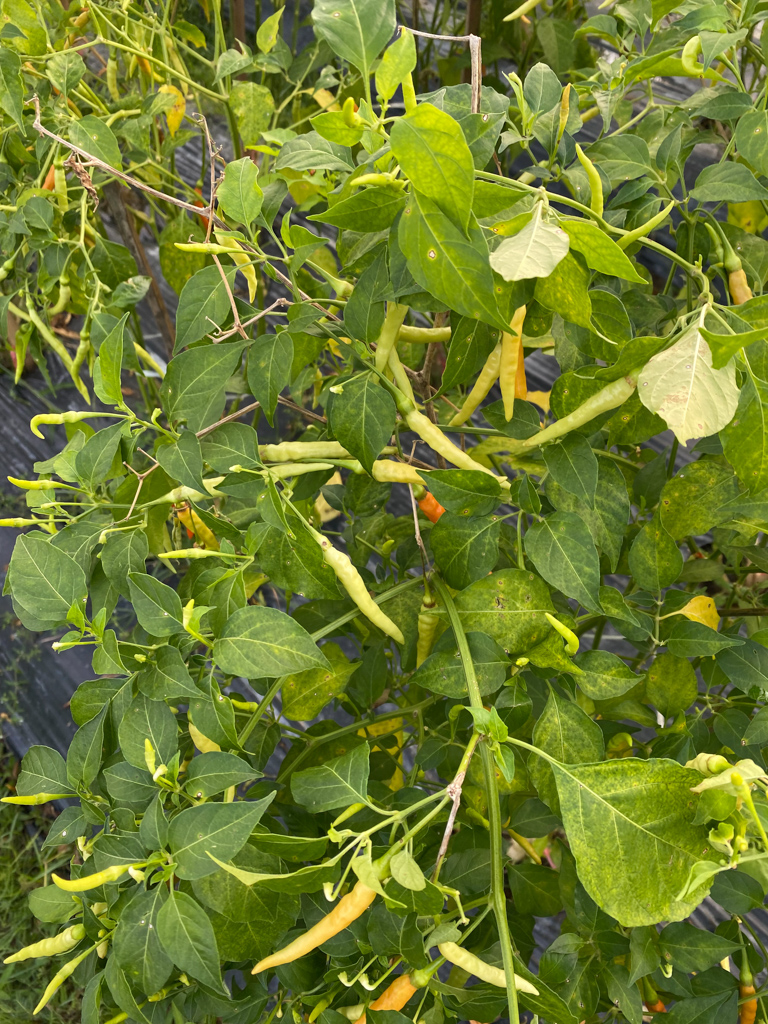Rust: (560, 757, 710, 927), (537, 698, 605, 811), (656, 461, 731, 541), (280, 645, 357, 718), (469, 581, 545, 643), (525, 633, 584, 675), (579, 655, 634, 699)
frog-eye leafspot: (424, 246, 440, 262), (463, 330, 477, 344), (401, 204, 412, 217), (619, 413, 633, 423), (560, 385, 573, 395), (495, 284, 504, 296), (193, 789, 203, 799), (489, 329, 497, 338)
